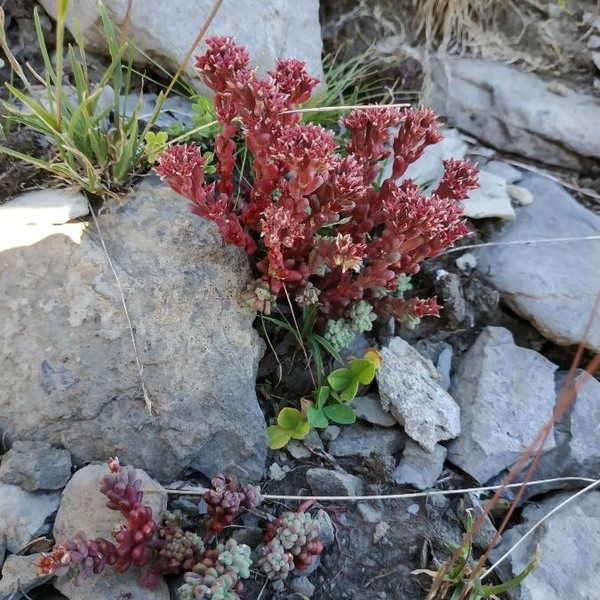obstacle: (170, 36, 468, 312), (40, 445, 326, 576), (22, 46, 158, 195), (268, 350, 392, 452)
